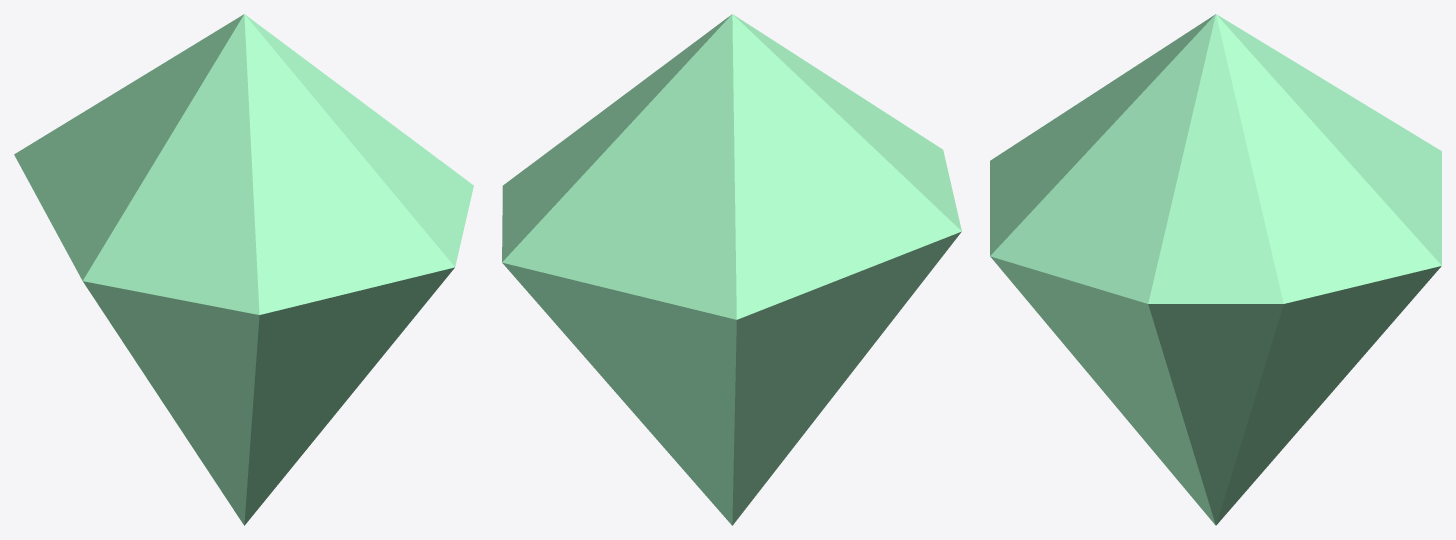
The model's file is service-seo.gltf.
3 renders of one model, left to right at view 1: azimuth 30°, elevation 25°; view 2: azimuth 150°, elevation 25°; view 3: azimuth 270°, elevation 25°, orthographic.
Visible parts, largest first — view 1: service-seo; view 2: service-seo; view 3: service-seo.
Part boxes in pixels (left/top/right/bottom): service-seo: left=14, top=14, right=473, bottom=525; service-seo: left=502, top=14, right=961, bottom=525; service-seo: left=990, top=14, right=1441, bottom=525.
Size of the model in its own units: 2 by 2.5 by 2.
